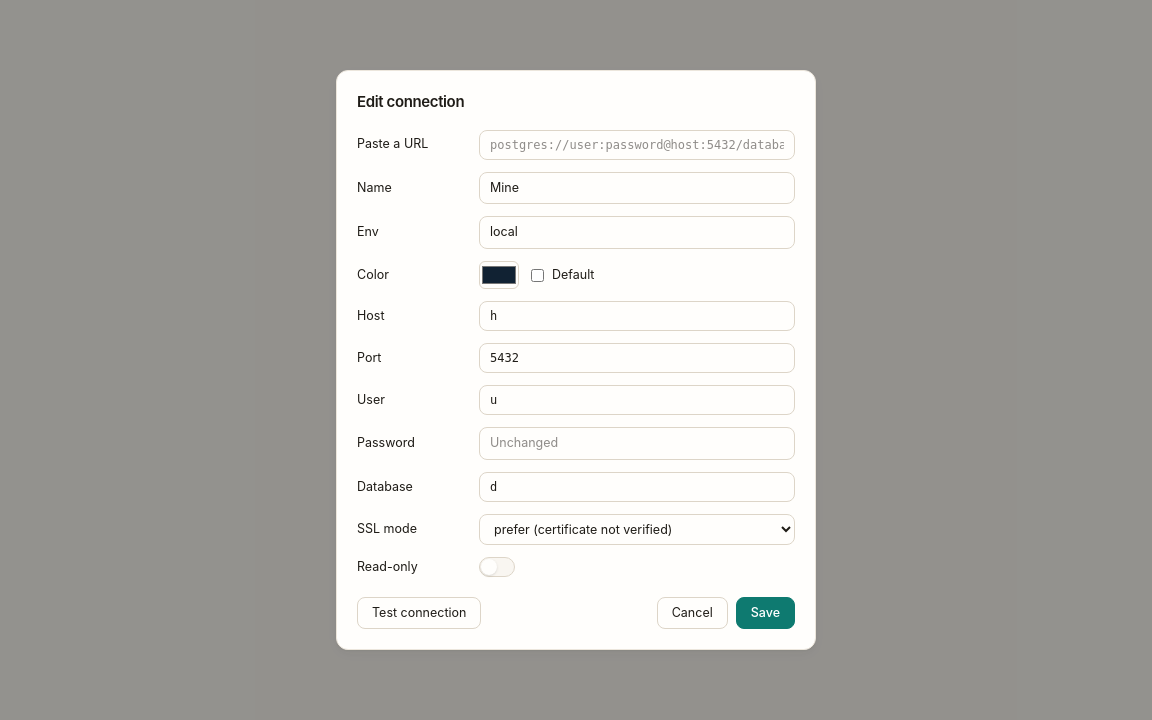
ConnectionDialog › Test connection shows the backend error as is
The image size is (1152, 720).
Click the button "Test connection" at coordinates (419, 613), box [357,597,481,629]
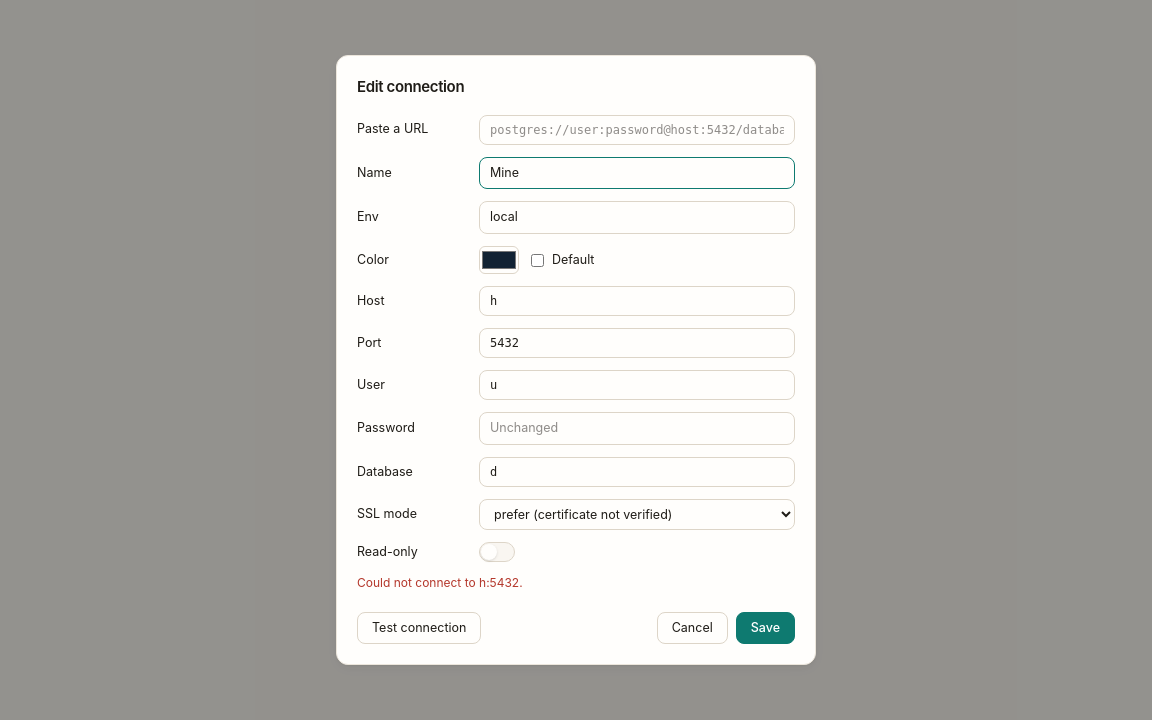
Expected: the message with test id "test-result" reads "Could not connect to h:5432.", [357,575,523,590]
